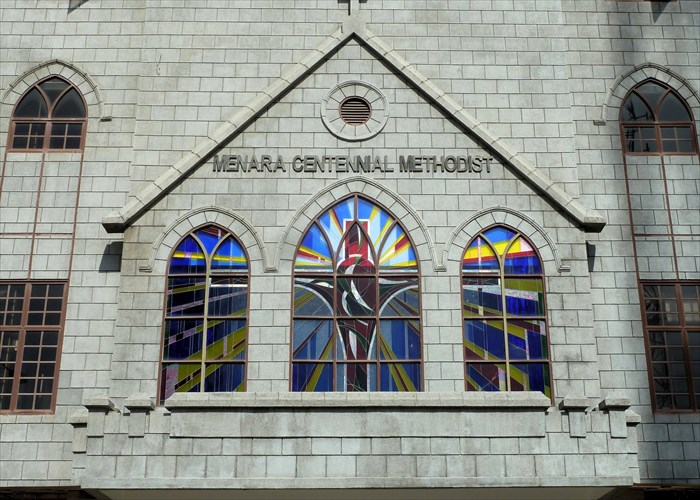Church: (122, 43, 599, 373)
